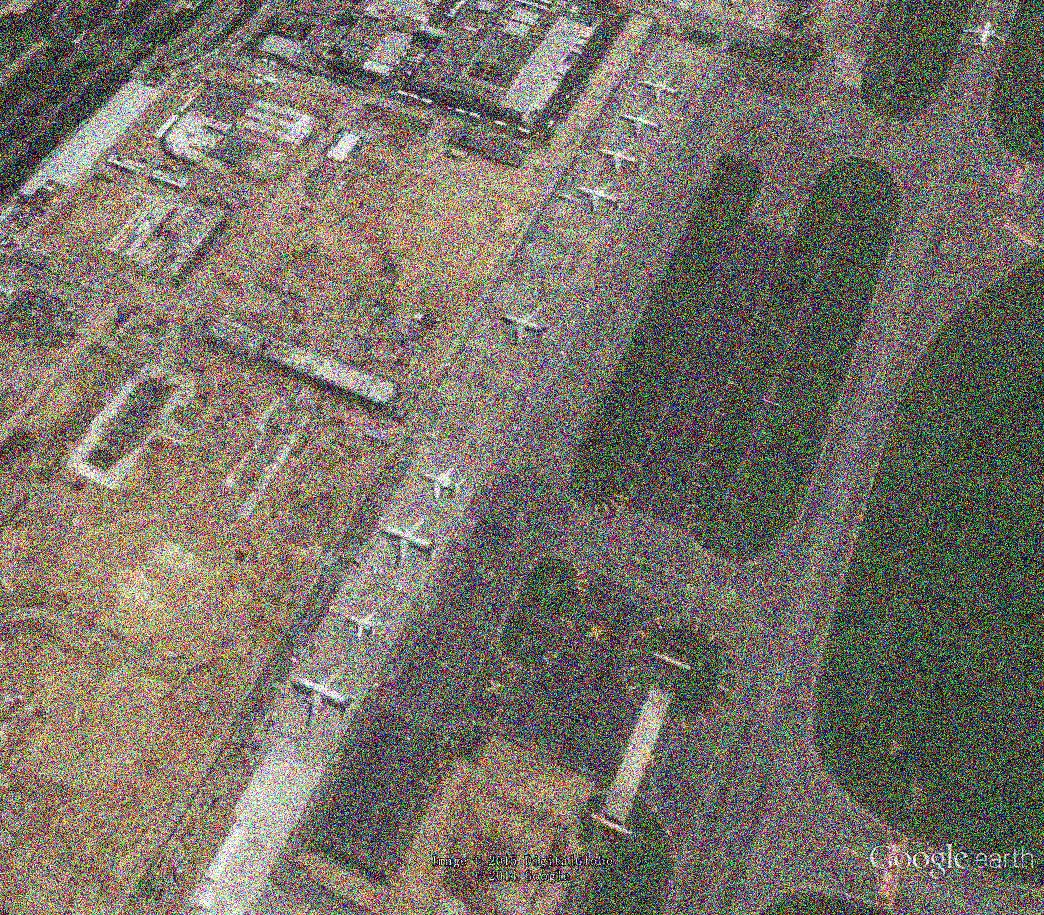aircraft: (289, 661, 364, 729), (375, 513, 448, 571), (501, 304, 556, 351), (574, 178, 628, 219), (418, 465, 468, 504), (597, 142, 651, 178), (637, 73, 693, 106), (960, 18, 1008, 54), (618, 108, 670, 141), (345, 609, 385, 646)
